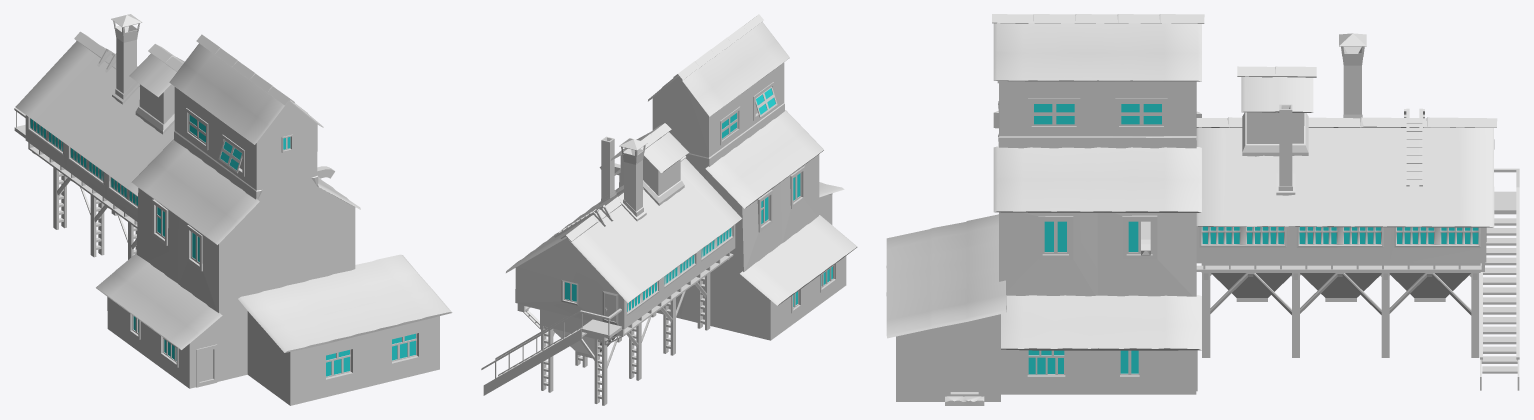
Rendered from Tik_substance.fbx.
3 renders of one model, left to right at view 1: azimuth 30°, elevation 25°; view 2: azimuth 150°, elevation 25°; view 3: azimuth 270°, elevation 25°, orthographic. The views are drawn at different scales.
Parts seen in each view (by area): view 1: Roof1_low; view 2: Roof1_low; view 3: Roof1_low.
Part boxes in pixels (x1,y1,x2,y2): Roof1_low: (14,14,452,405); Roof1_low: (481,14,857,405); Roof1_low: (886,14,1519,405).
Size of the model in its own units: 1155 by 1329 by 2312.
